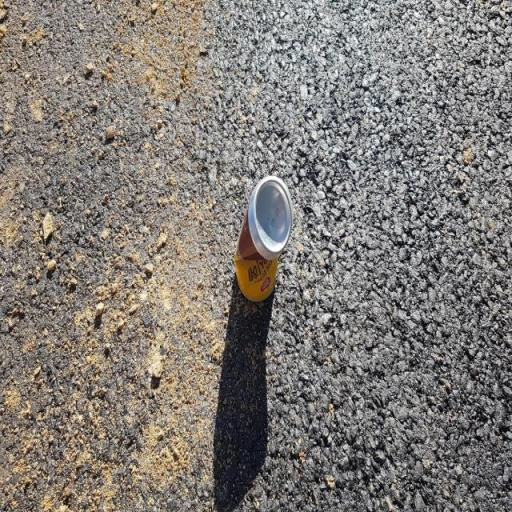metal: (212, 145, 320, 354)
